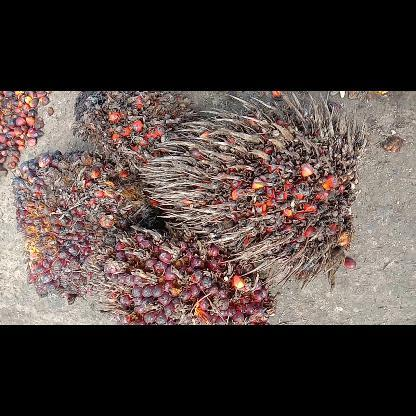TBS masak: (10, 150, 158, 304), (87, 222, 275, 324)
Terlalu masak: (139, 92, 367, 288), (71, 91, 195, 167)
